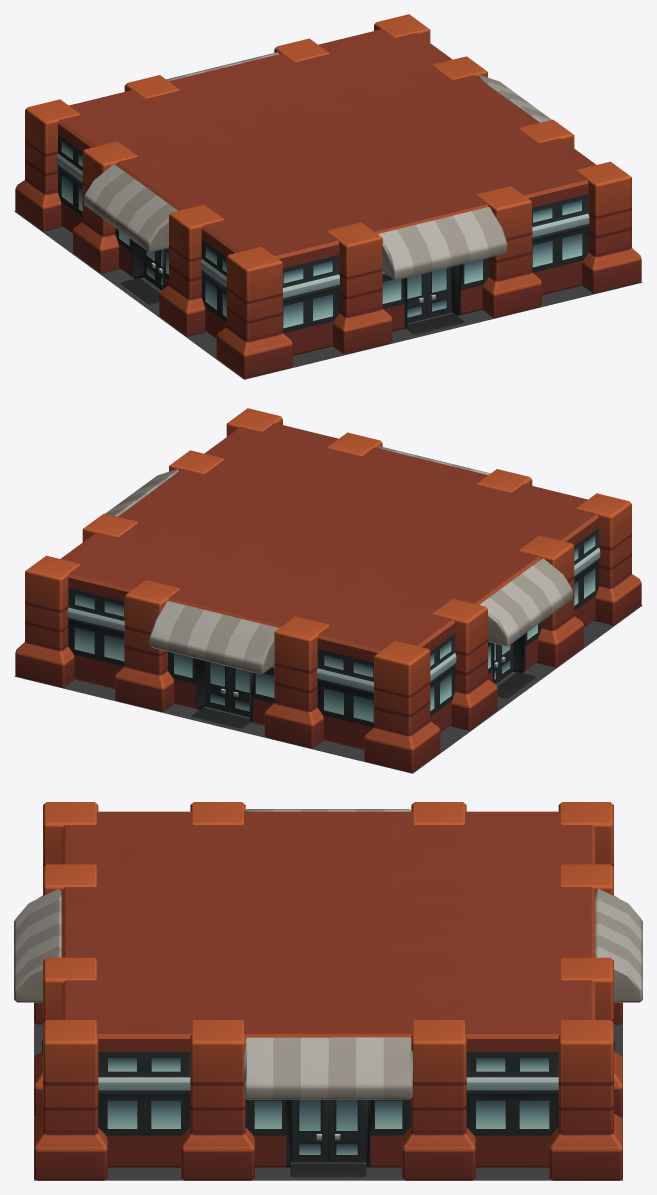
File: office_building_type1_ground_floor_red.fbx
3 renders of one model, top to bottom at view 1: azimuth 30°, elevation 25°; view 2: azimuth 150°, elevation 25°; view 3: azimuth 270°, elevation 25°, orthographic. The views are drawn at different scales.
Parts seen in each view (by area): view 1: office_building_type1_ground_floor_red, door_front_office_right, door_front_office_left; view 2: office_building_type1_ground_floor_red, door_back_office_left, door_back_office_right; view 3: office_building_type1_ground_floor_red, door_rightside_office_left, door_rightside_office_right.
Boxes of the visible parts, left/top/right/bottom form: office_building_type1_ground_floor_red: left=14, top=14, right=642, bottom=379; door_front_office_right: left=426, top=267, right=451, bottom=318; door_front_office_left: left=407, top=273, right=426, bottom=323; office_building_type1_ground_floor_red: left=14, top=408, right=642, bottom=773; door_back_office_left: left=205, top=661, right=230, bottom=712; door_back_office_right: left=230, top=667, right=249, bottom=717; office_building_type1_ground_floor_red: left=14, top=802, right=642, bottom=1180; door_rightside_office_left: left=291, top=1099, right=328, bottom=1162; door_rightside_office_right: left=328, top=1099, right=365, bottom=1162.
Size of the model in its own units: 1708 by 409 by 1708.
